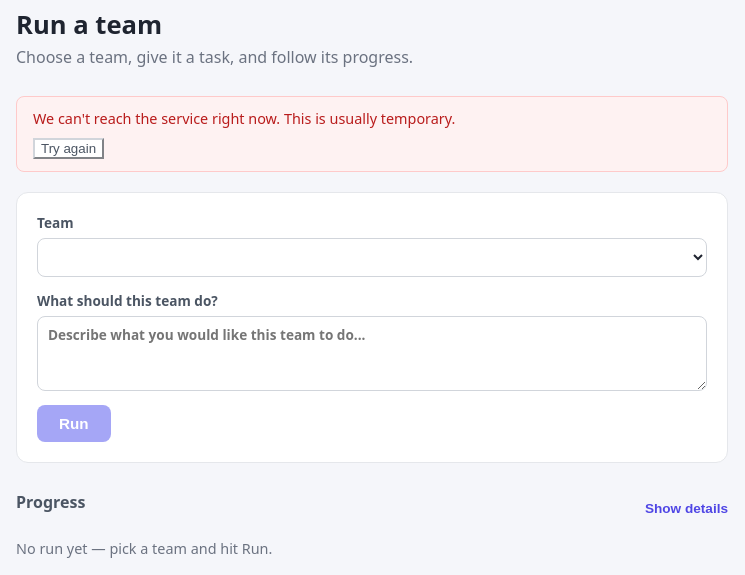
MonitorPage backend error handling › recovers when the retry button succeeds, without needing a reload
This screenshot has width=745, height=575.
Step 1. Click the button "Try again" → (69, 148), box [33,138,104,159]
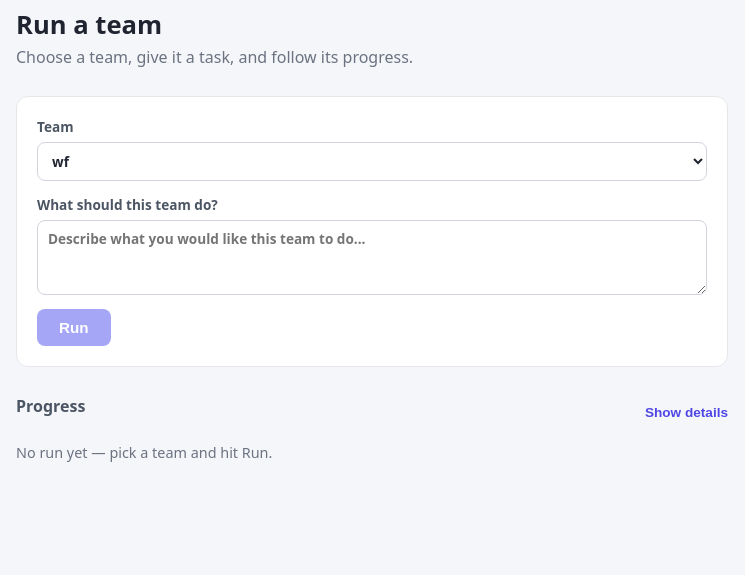
Result: the text "can't reach the service" is gone
